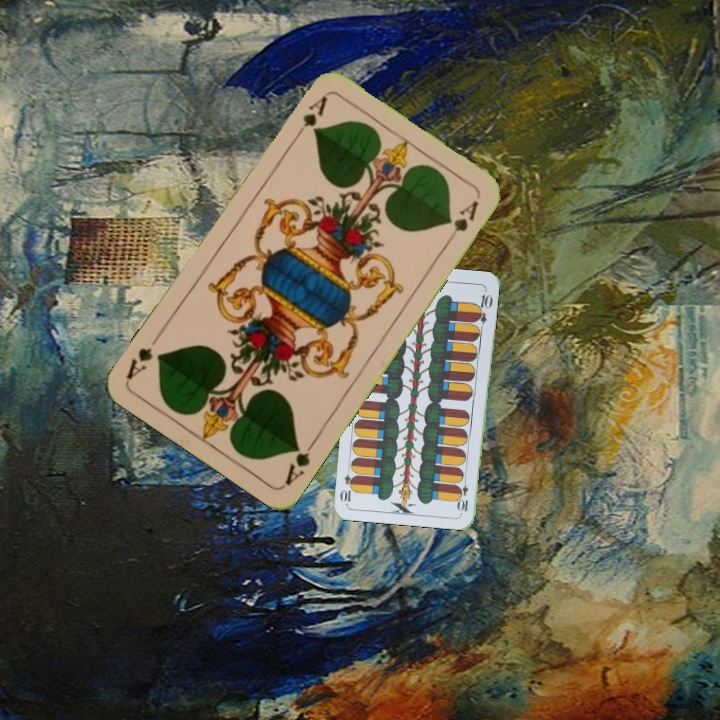E10: (456, 473, 471, 514)
GA: (280, 435, 319, 489), (289, 92, 330, 143)
